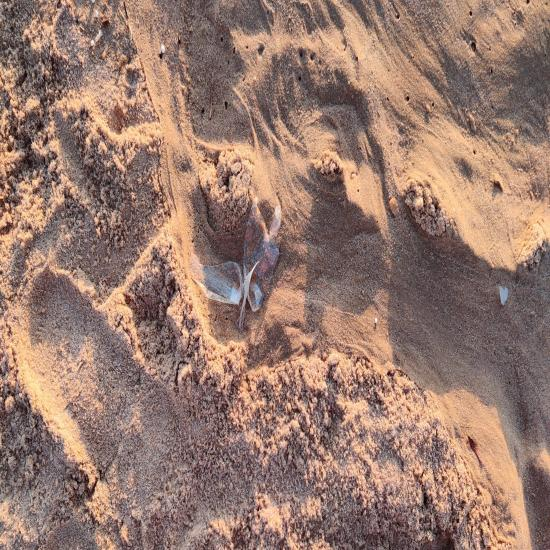Plastic film: (213, 408, 229, 466), (128, 331, 145, 358)
Unlabeled litter: (175, 51, 195, 69)
